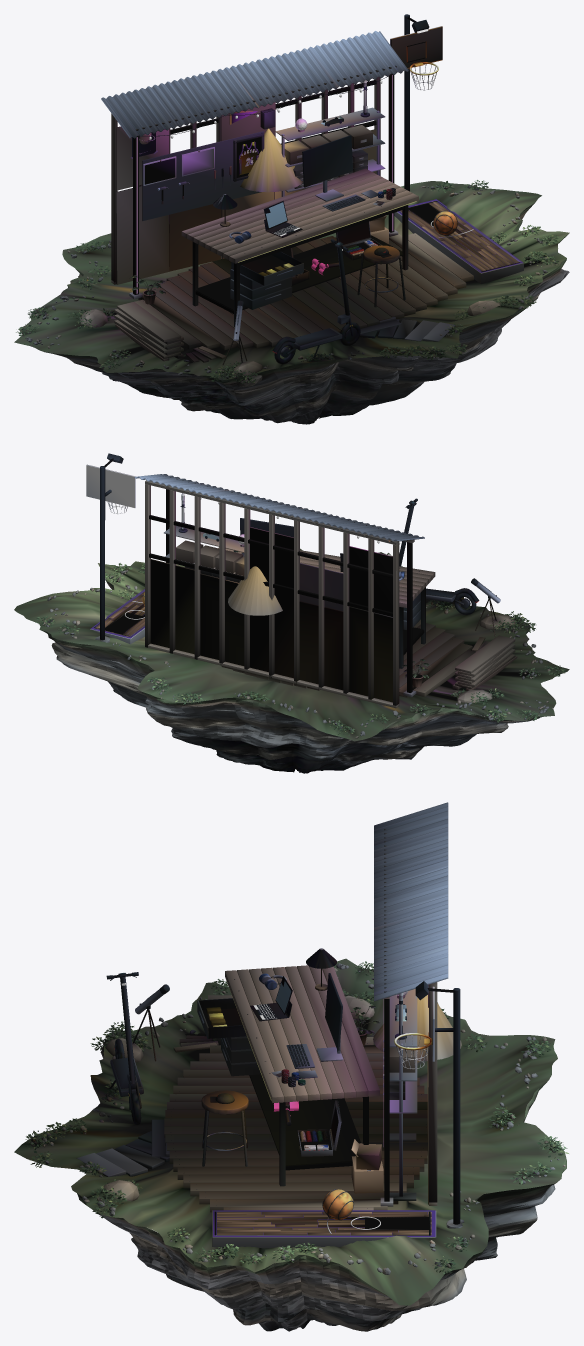
The model's file is flight-projects-f79a9807.glb.
3 renders of one model, top to bottom at view 1: azimuth 30°, elevation 25°; view 2: azimuth 150°, elevation 25°; view 3: azimuth 270°, elevation 25°, orthographic. The views are drawn at different scales.
Visible parts, largest first — view 1: Projects island · flight.001; view 2: Projects island · flight.001; view 3: Projects island · flight.001.
Part boxes in pixels (x1,y1,x2,y2): Projects island · flight.001: (14,14,569,424); Projects island · flight.001: (14,453,569,773); Projects island · flight.001: (14,802,568,1331).
Size of the model in its own units: 12.7 by 7.34 by 8.69.
